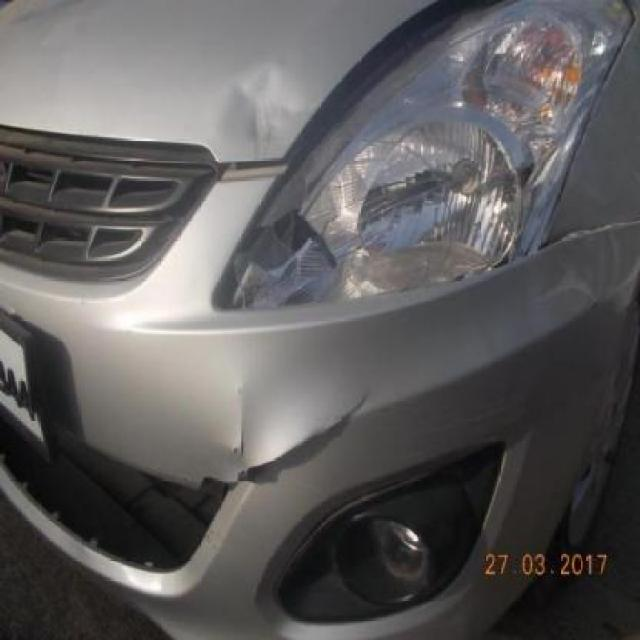damage: (218, 111, 545, 319), (190, 381, 373, 503), (218, 56, 313, 157), (526, 205, 640, 270), (223, 382, 252, 465)
